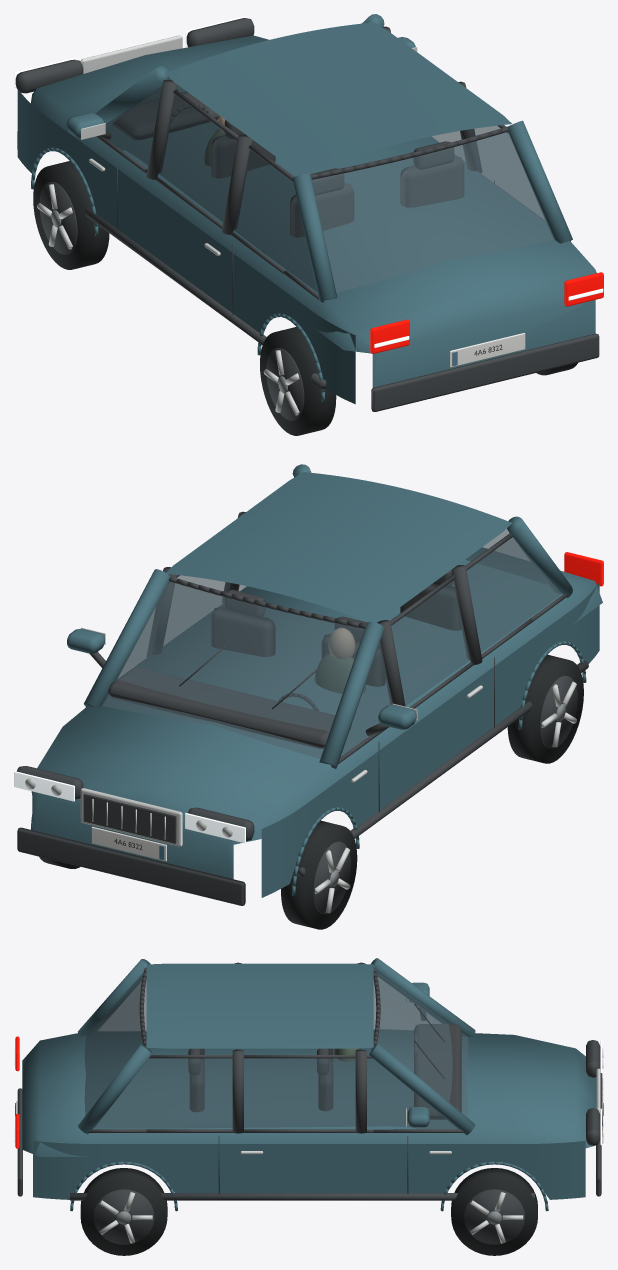
Rendered from hatchback.glb.
3 views of the same model, one above another, from view 1: azimuth 30°, elevation 25°; view 2: azimuth 150°, elevation 25°; view 3: azimuth 270°, elevation 25° (orthographic). The views are drawn at different scales.
Parts seen in each view (by area): view 1: Vehicle_hatchback_Metallic car body paint, Vehicle_hatchback_Car clear tinted glass, Vehicle_hatchback_Chassis graphite, wheel_RL_Window seals and rubber, wheel_FL_Window seals and rubber, Vehicle_hatchback_Rear brake lamps, Vehicle_hatchback_Chrome trim, wheel_RL_Chassis graphite, wheel_FL_Chassis graphite, Vehicle_hatchback_Registration plate white, Vehicle_hatchback_Headlamp optical lens, wheel_RL_Chrome trim (+1 smaller); view 2: Vehicle_hatchback_Metallic car body paint, Vehicle_hatchback_Car clear tinted glass, Vehicle_hatchback_Chassis graphite, wheel_FL_Window seals and rubber, wheel_RL_Window seals and rubber, Vehicle_hatchback_Chrome trim, Vehicle_hatchback_Headlamp optical lens, wheel_RL_Chassis graphite, wheel_FL_Chassis graphite, Vehicle_hatchback_Registration plate white, Vehicle_hatchback_Coat fabric, Vehicle_hatchback_Rear brake lamps (+3 smaller); view 3: Vehicle_hatchback_Metallic car body paint, Vehicle_hatchback_Car clear tinted glass, Vehicle_hatchback_Chassis graphite, wheel_RR_Window seals and rubber, wheel_FR_Window seals and rubber, wheel_RR_Chassis graphite, wheel_FR_Chassis graphite, wheel_FR_Chrome trim, Vehicle_hatchback_Chrome trim, wheel_RR_Chrome trim.
Part boxes in pixels (left/top/right/bottom): Vehicle_hatchback_Metallic car body paint: left=17, top=14, right=596, bottom=404; Vehicle_hatchback_Car clear tinted glass: left=105, top=79, right=554, bottom=292; Vehicle_hatchback_Chassis graphite: left=15, top=18, right=599, bottom=411; wheel_RL_Window seals and rubber: left=260, top=327, right=336, bottom=435; wheel_FL_Window seals and rubber: left=33, top=161, right=109, bottom=269; Vehicle_hatchback_Rear brake lamps: left=370, top=272, right=603, bottom=353; Vehicle_hatchback_Chrome trim: left=80, top=35, right=417, bottom=255; wheel_RL_Chassis graphite: left=266, top=348, right=304, bottom=420; wheel_FL_Chassis graphite: left=39, top=182, right=77, bottom=254; Vehicle_hatchback_Registration plate white: left=450, top=333, right=525, bottom=367; Vehicle_hatchback_Headlamp optical lens: left=14, top=16, right=603, bottom=347; wheel_RL_Chrome trim: left=263, top=350, right=299, bottom=415; Vehicle_hatchback_Metallic car body paint: left=31, top=464, right=602, bottom=897; Vehicle_hatchback_Car clear tinted glass: left=102, top=528, right=562, bottom=758; Vehicle_hatchback_Chassis graphite: left=16, top=511, right=588, bottom=905; wheel_FL_Window seals and rubber: left=281, top=820, right=357, bottom=929; wheel_RL_Window seals and rubber: left=507, top=654, right=583, bottom=763; Vehicle_hatchback_Chrome trim: left=25, top=627, right=482, bottom=846; Vehicle_hatchback_Headlamp optical lens: left=14, top=771, right=245, bottom=843; wheel_RL_Chassis graphite: left=539, top=675, right=577, bottom=748; wheel_FL_Chassis graphite: left=313, top=841, right=350, bottom=914; Vehicle_hatchback_Registration plate white: left=91, top=826, right=166, bottom=861; Vehicle_hatchback_Coat fabric: left=315, top=654, right=365, bottom=693; Vehicle_hatchback_Rear brake lamps: left=564, top=552, right=603, bottom=586; Vehicle_hatchback_Metallic car body paint: left=22, top=958, right=596, bottom=1211; Vehicle_hatchback_Car clear tinted glass: left=84, top=972, right=468, bottom=1129; Vehicle_hatchback_Chassis graphite: left=17, top=962, right=602, bottom=1200; wheel_RR_Window seals and rubber: left=80, top=1168, right=167, bottom=1255; wheel_FR_Window seals and rubber: left=451, top=1168, right=537, bottom=1255; wheel_RR_Chassis graphite: left=93, top=1189, right=154, bottom=1244; wheel_FR_Chassis graphite: left=464, top=1189, right=524, bottom=1244; wheel_FR_Chrome trim: left=470, top=1192, right=523, bottom=1243; Vehicle_hatchback_Chrome trim: left=240, top=998, right=603, bottom=1154; wheel_RR_Chrome trim: left=99, top=1192, right=152, bottom=1243.
Bounding box in the file's own units: 2.36 × 1.63 × 4.32.
